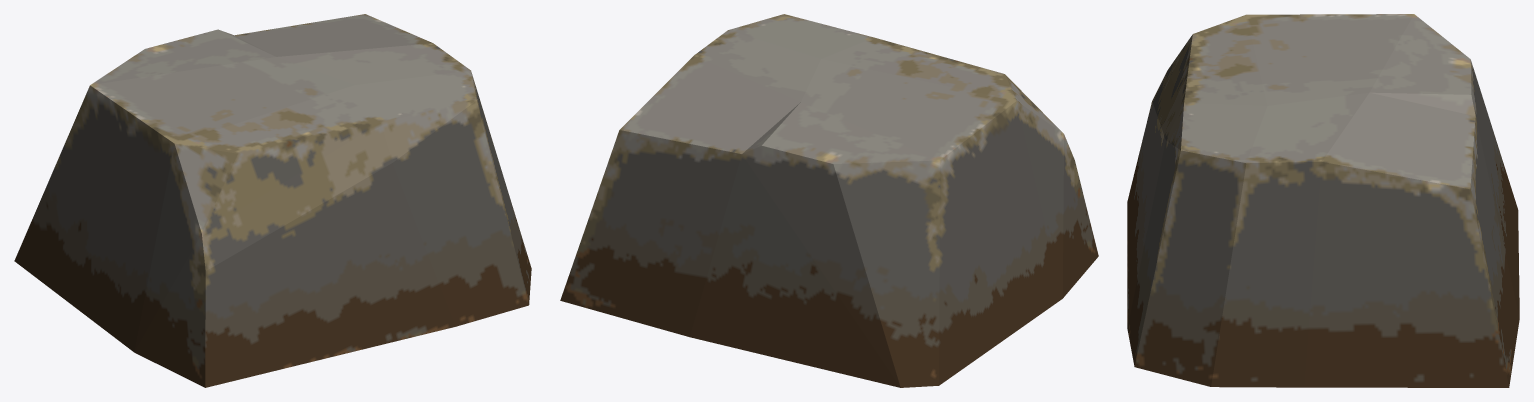
File: Pebble_Square_4__go_coast.glb
3 renders of one model, left to right at view 1: azimuth 30°, elevation 25°; view 2: azimuth 150°, elevation 25°; view 3: azimuth 270°, elevation 25°, orthographic. The views are drawn at different scales.
Visible parts, largest first — view 1: Pebble_Square_4; view 2: Pebble_Square_4; view 3: Pebble_Square_4.
Boxes of the visible parts, x1,y1,x2,y2 form: Pebble_Square_4: (14, 14, 531, 387); Pebble_Square_4: (560, 14, 1098, 387); Pebble_Square_4: (1127, 14, 1519, 387).
Bounding box in the file's own units: 0.3399 × 0.1683 × 0.2908.
Materials: 1 (1 with a texture image).
